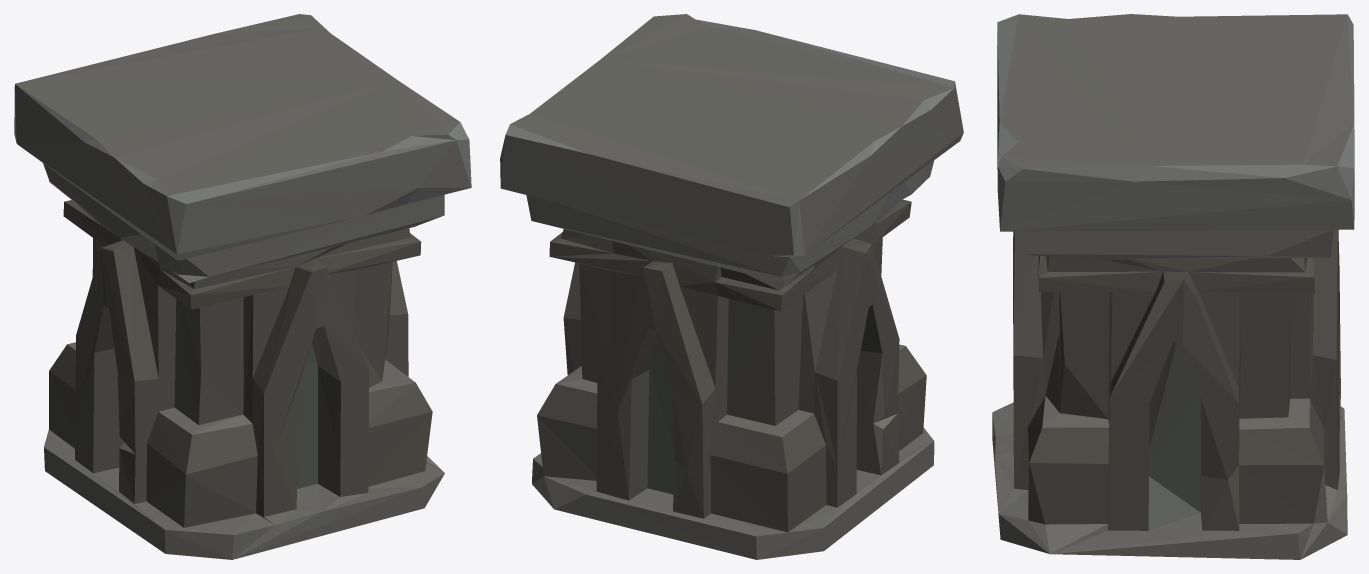
File: MDungeon_PillarPedestal_Small.FBX
The picture shows the model from 3 angles, left to right: view 1: azimuth 30°, elevation 25°; view 2: azimuth 150°, elevation 25°; view 3: azimuth 270°, elevation 25°; orthographic projection. The views are drawn at different scales.
Visible parts, largest first — view 1: MDungeon_PillarPedestal_Small_LOD0; view 2: MDungeon_PillarPedestal_Small_LOD0; view 3: MDungeon_PillarPedestal_Small_LOD0.
Part boxes in pixels (<box>): MDungeon_PillarPedestal_Small_LOD0: <box>14,14,471,559</box>; MDungeon_PillarPedestal_Small_LOD0: <box>500,14,963,559</box>; MDungeon_PillarPedestal_Small_LOD0: <box>992,14,1354,559</box>.
Size of what is drawn, in the model's own units: 1.46 by 1.74 by 1.43.
